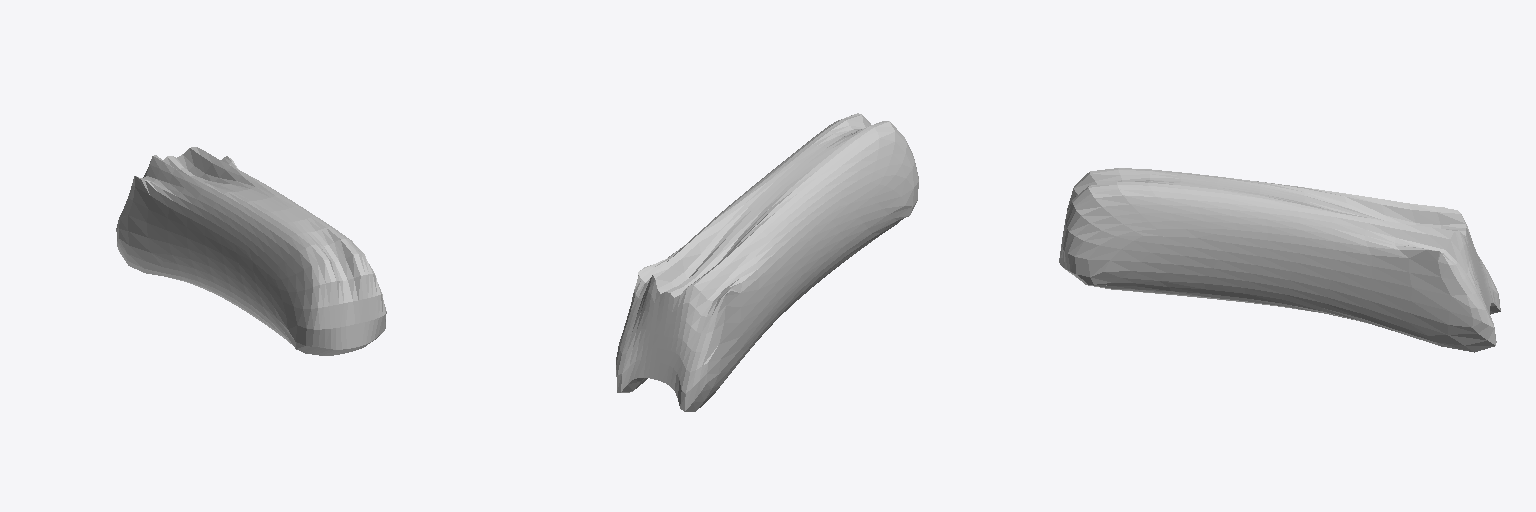
Rendered from rearlargetoe2.obj.
3 renders of one model, left to right at view 1: azimuth 30°, elevation 25°; view 2: azimuth 150°, elevation 25°; view 3: azimuth 270°, elevation 25°, orthographic.
Parts seen in each view (by area): view 1: Cube.164_Cube.166; view 2: Cube.164_Cube.166; view 3: Cube.164_Cube.166.
Boxes of the visible parts, <box> form: Cube.164_Cube.166: <box>116,147,386,355</box>; Cube.164_Cube.166: <box>616,113,918,411</box>; Cube.164_Cube.166: <box>1059,168,1500,352</box>.
Bounding box in the file's own units: 0.0279 × 0.0384 × 0.1012.